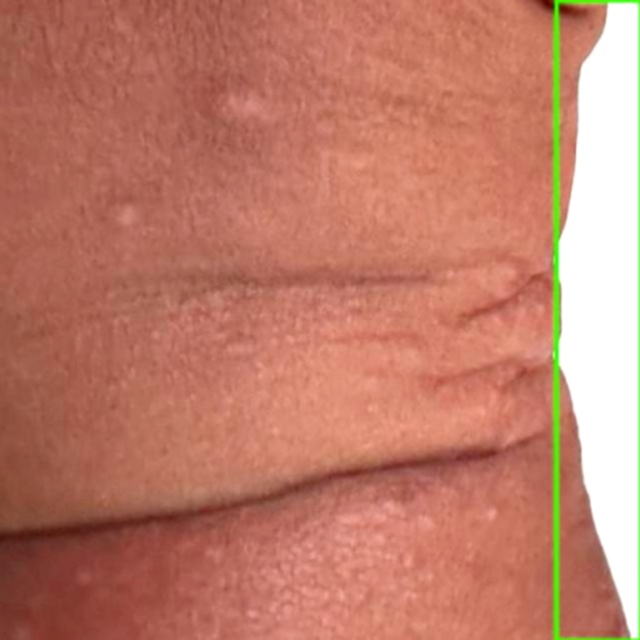Scabies: (556, 0, 639, 639)
